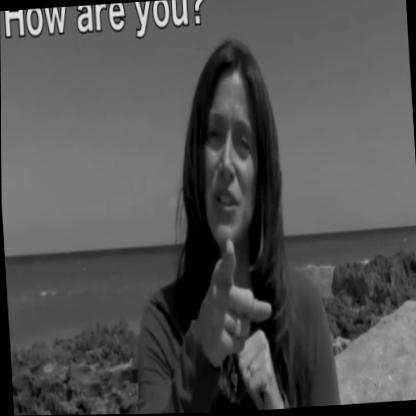HowAreYou: (190, 238, 284, 414)
